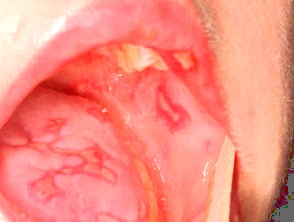SJS-TEN: (0, 87, 124, 216), (133, 35, 227, 137)
